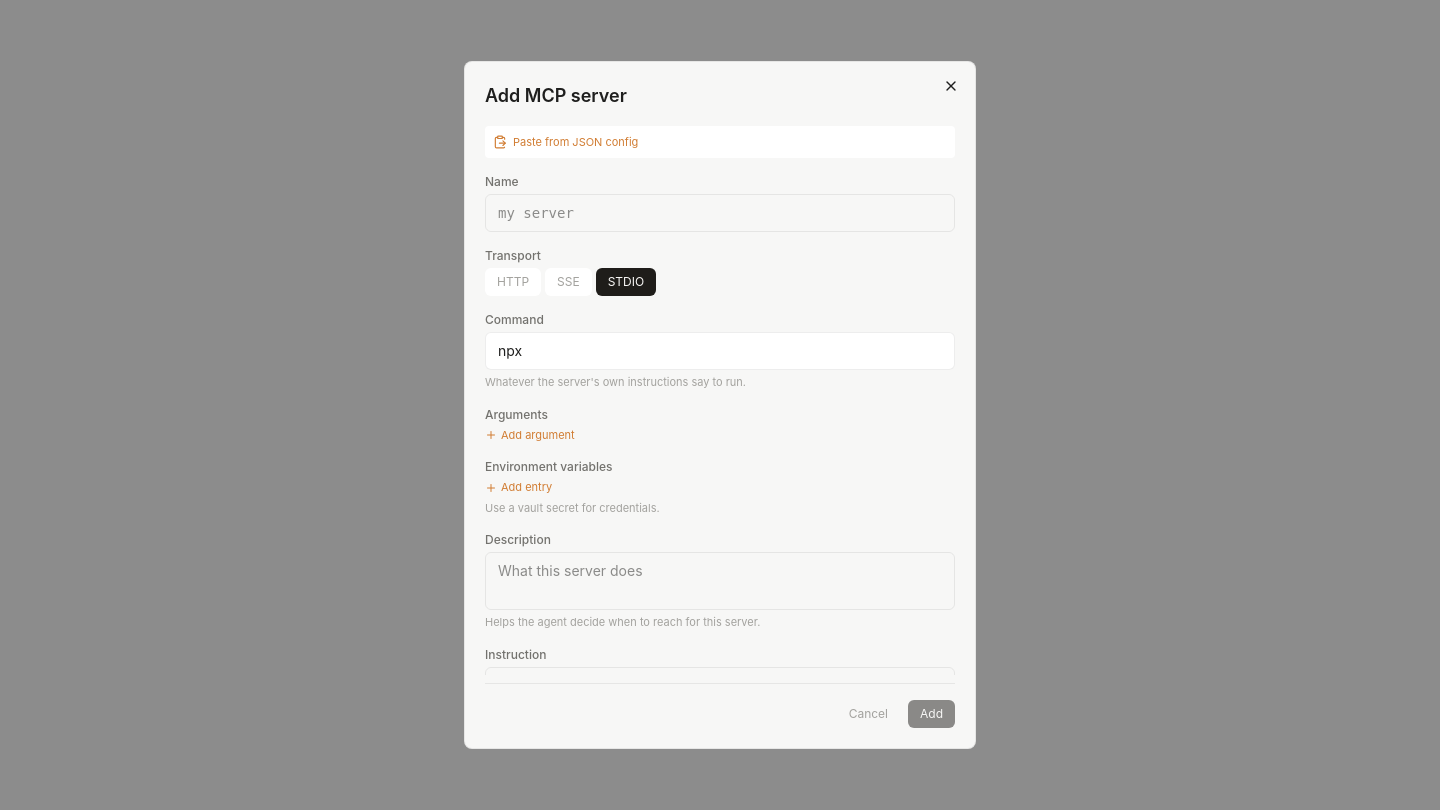
Scenario: McpServerModal — validation gating › disables Add until a valid name is entered
Expected: the button "Add" is disabled, [908,700,955,728]
Type "good_name" into the field with placeholder "my_server". click: [720, 213]
box: [485,194,955,232]
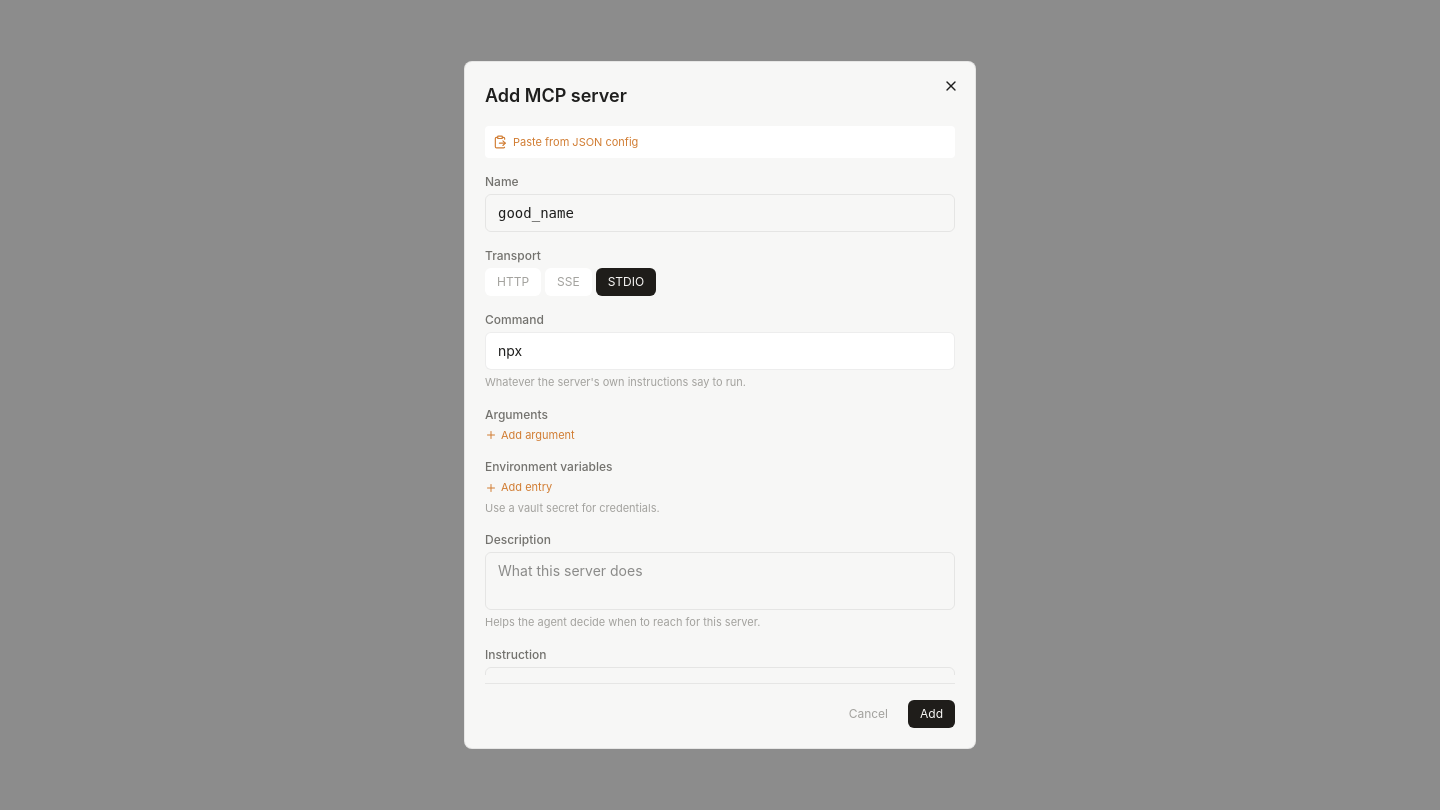
Expected: the button "Add" is enabled, [908,700,955,728]
